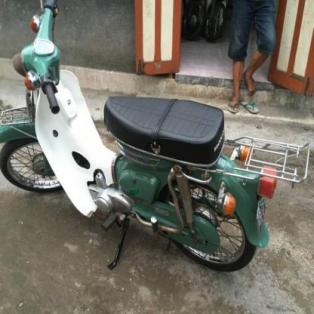Motocicleta: (0, 0, 312, 273)
